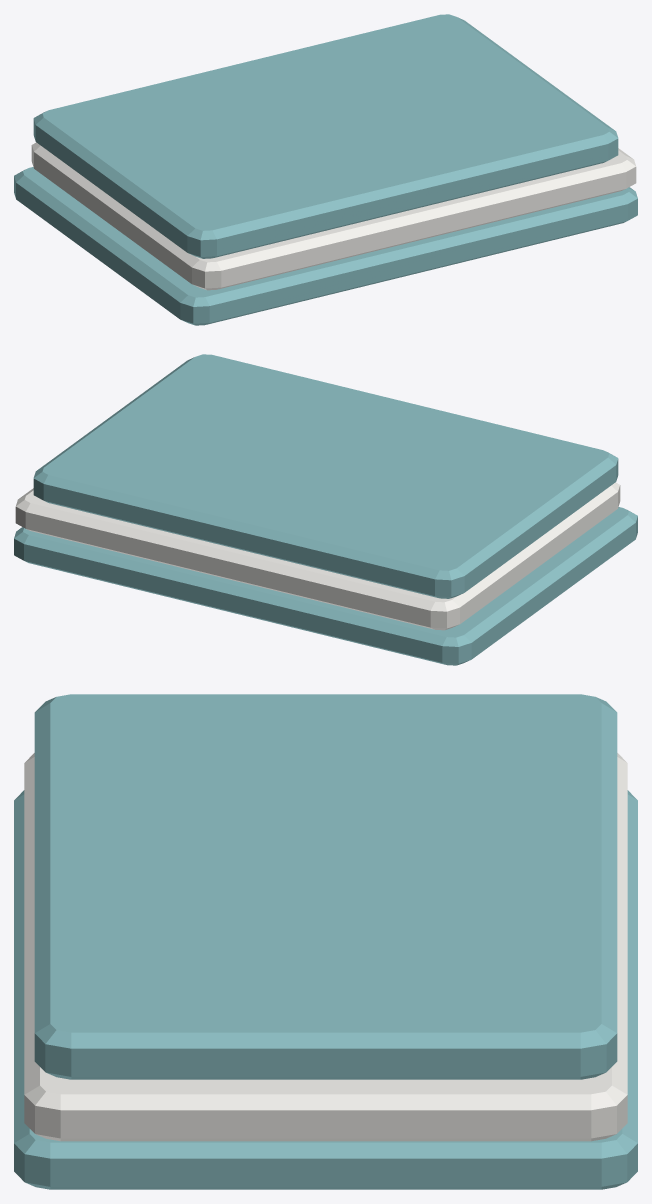
The model's file is towel_folded.glb.
3 renders of one model, top to bottom at view 1: azimuth 30°, elevation 25°; view 2: azimuth 150°, elevation 25°; view 3: azimuth 270°, elevation 25°, orthographic. The views are drawn at different scales.
Parts seen in each view (by area): view 1: towel-folded; view 2: towel-folded; view 3: towel-folded.
Boxes of the visible parts, x1,y1,x2,y2 form: towel-folded: (14, 14, 637, 325); towel-folded: (14, 354, 637, 665); towel-folded: (14, 694, 637, 1189).
Bounding box in the file's own units: 0.341 × 0.062 × 0.24.
